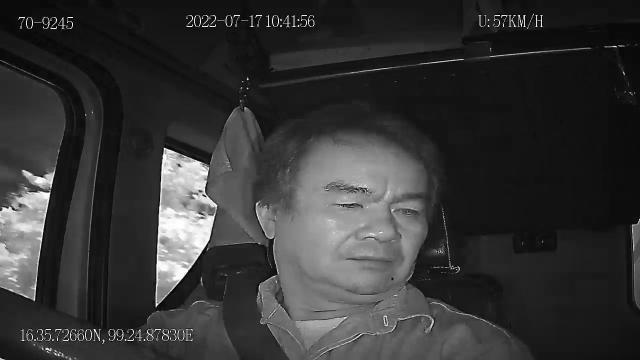SafeDriving: (321, 190, 372, 216), (385, 196, 428, 222)
Seatbelt: (220, 270, 292, 360)
